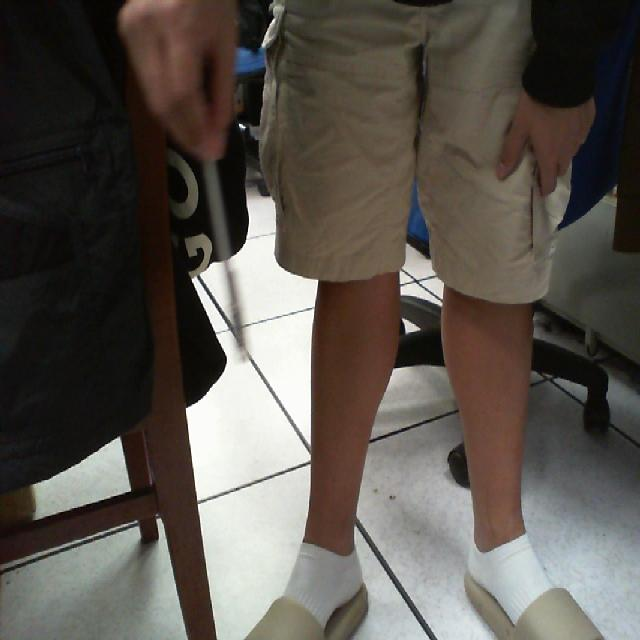Pen: (195, 117, 267, 386)
